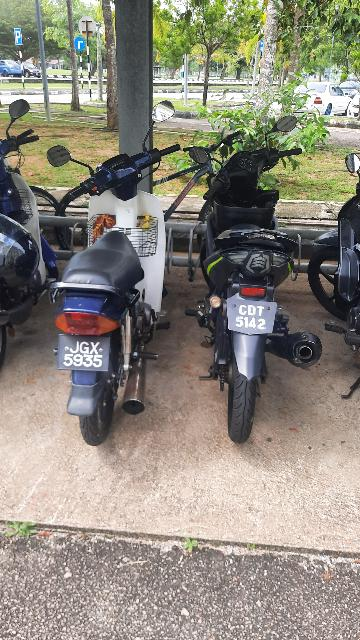License_Plate: (54, 338, 117, 376), (222, 298, 280, 338)
motorcycle: (37, 136, 184, 450), (190, 127, 330, 449)
